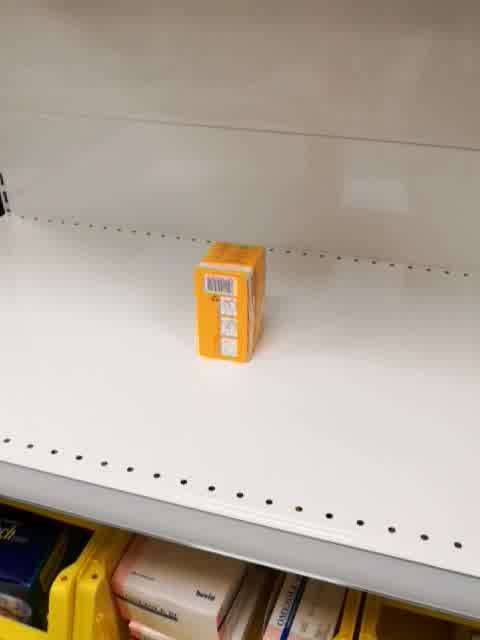jasminetea: (191, 241, 268, 365)
